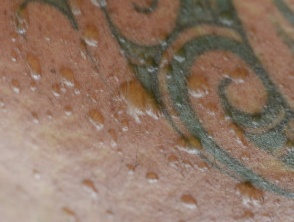SJS-TEN: (3, 0, 294, 217)
